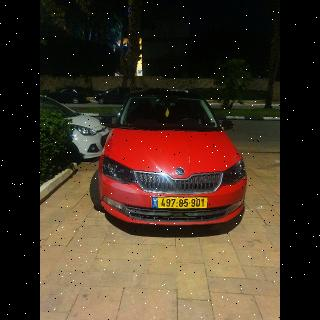LicensePlate: (159, 198, 208, 208)
